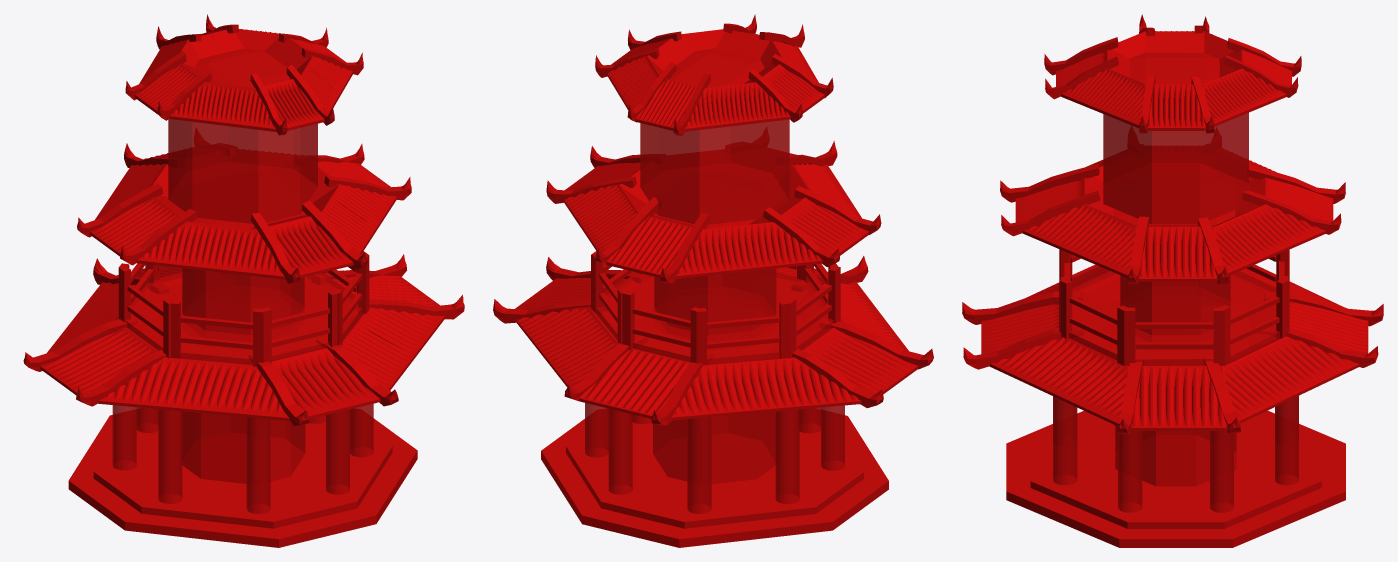
File: chineesgebouwallesaanelkaarfffffff.fbx
The picture shows the model from 3 angles, left to right: view 1: azimuth 30°, elevation 25°; view 2: azimuth 150°, elevation 25°; view 3: azimuth 270°, elevation 25°; orthographic projection.
Parts seen in each view (by area): view 1: Cube_1; view 2: Cube_1; view 3: Cube_1.
Boxes of the visible parts, left/top/right/bottom form: Cube_1: left=23, top=14, right=464, bottom=547; Cube_1: left=493, top=14, right=933, bottom=547; Cube_1: left=962, top=14, right=1383, bottom=547.
Size of the model in its own units: 1853 by 1951 by 1739.
